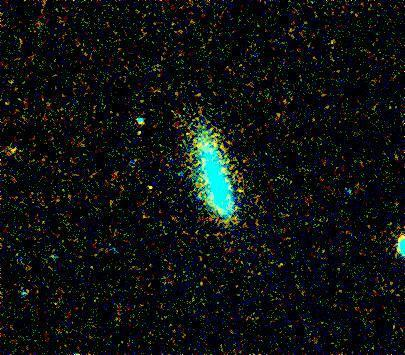star: (134, 172, 164, 202)
